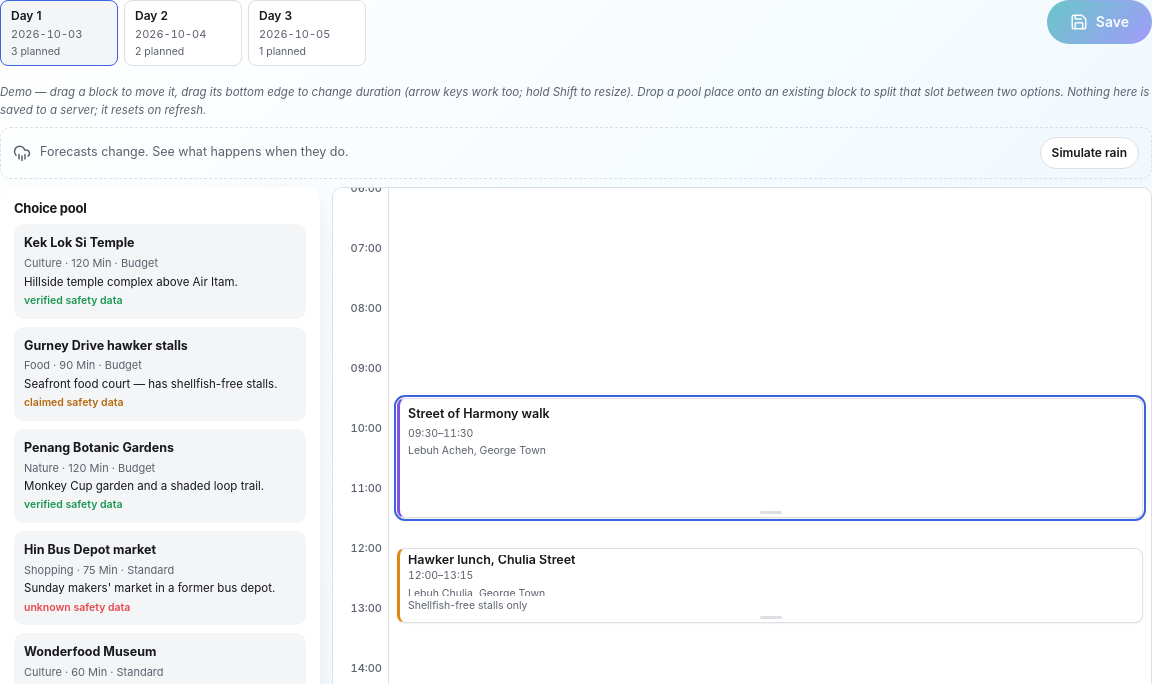
Test: DemoPlan › reflects an agreed Timeline change on the Plan tab
Press Arrowdown Arrowdown
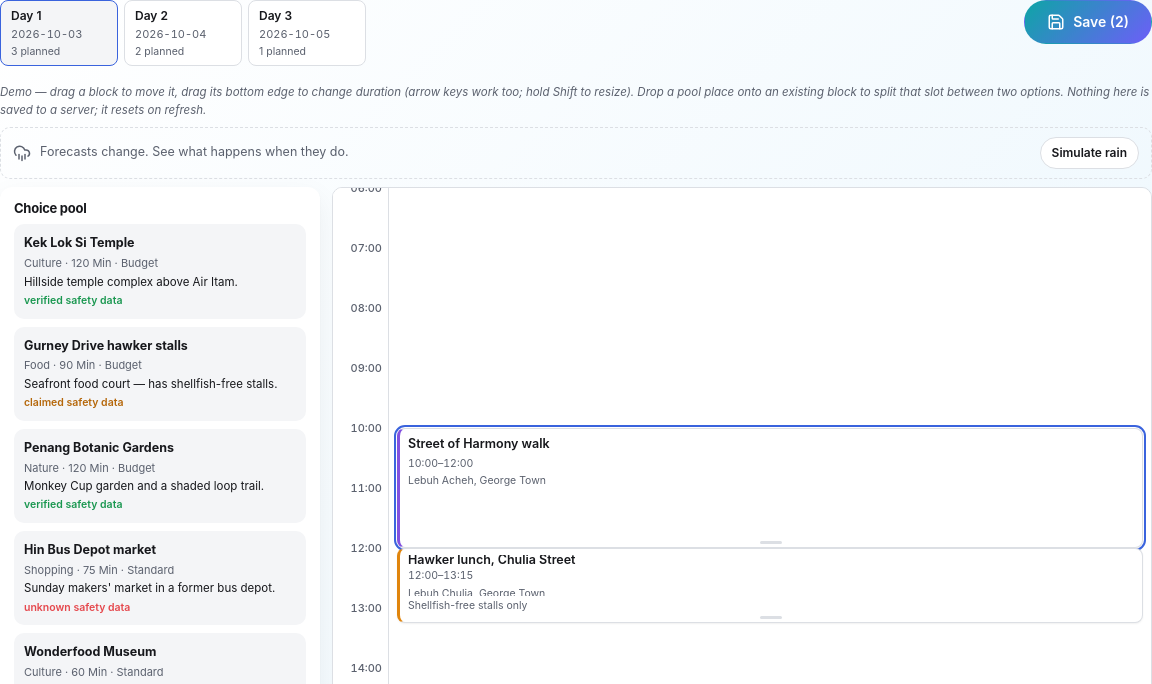
Click the button "Save (2)" at [1088, 22], box [1024, 0, 1151, 44]
(page scrolled)
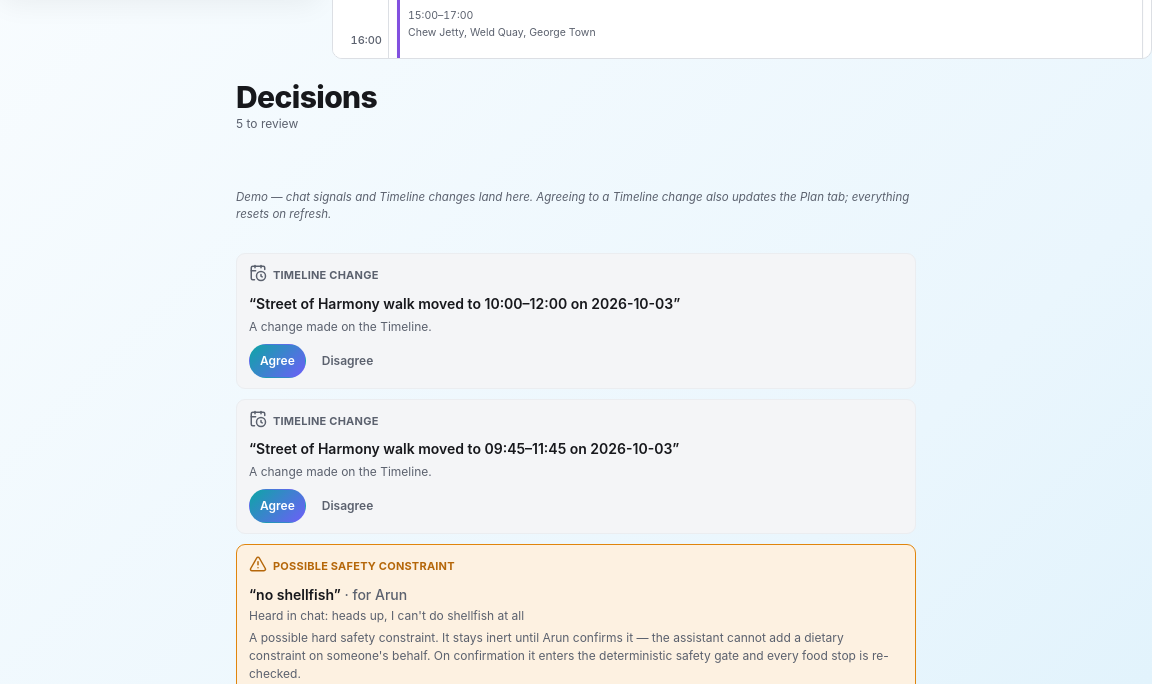
Click the 1st button "Agree" at [277, 361], box [249, 344, 306, 378]
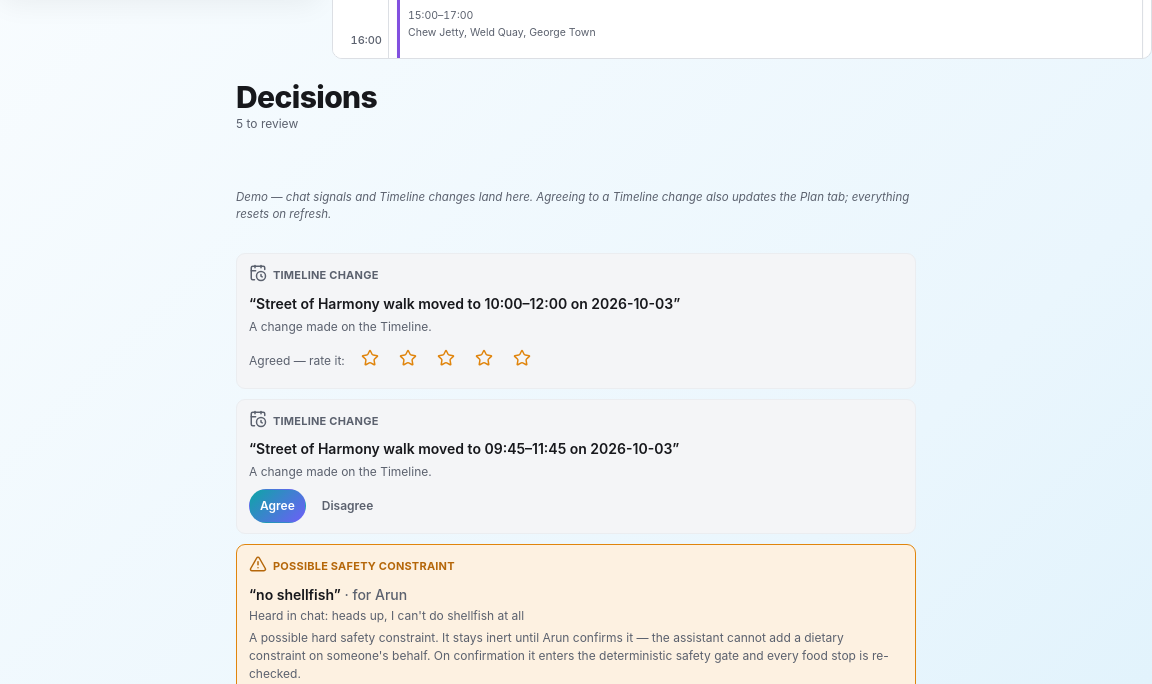
Click the button named "Rate 5 stars" at [522, 361], box [505, 344, 539, 378]
(page scrolled)
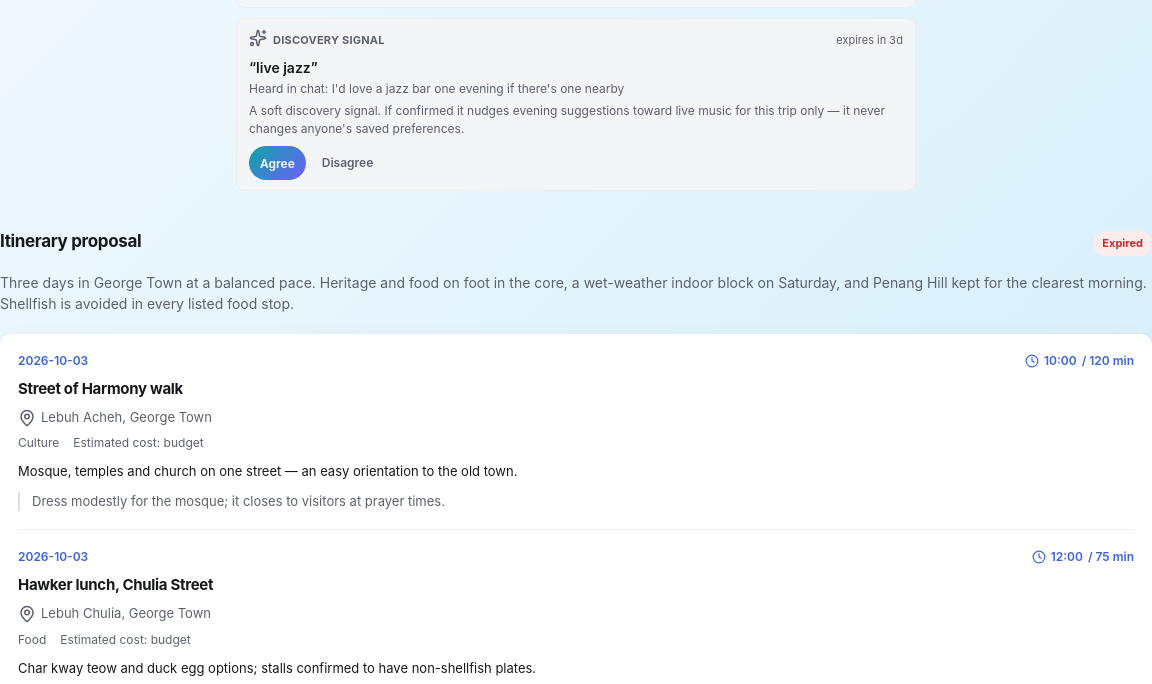
Expected: the button "09:30" is not shown
Now the text "10:00" is shown, box [1044, 352, 1077, 370]
